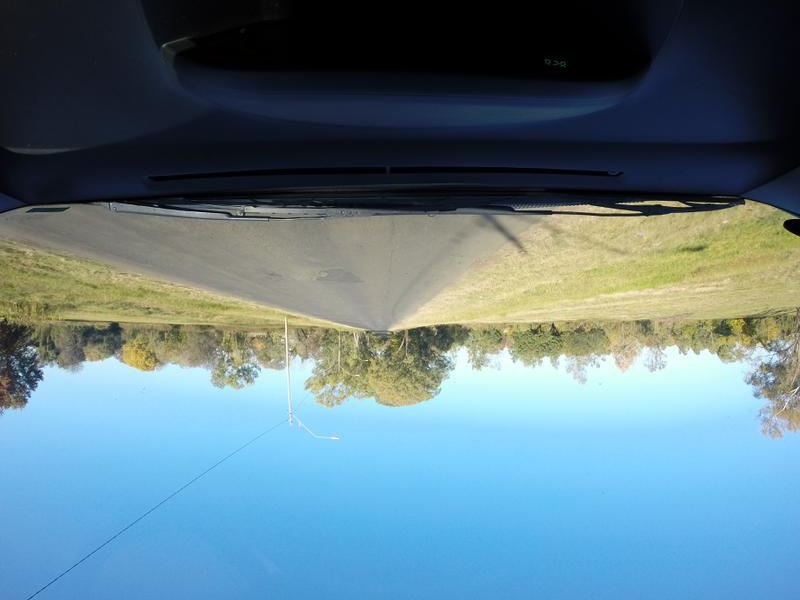pothole: (254, 262, 281, 282)
